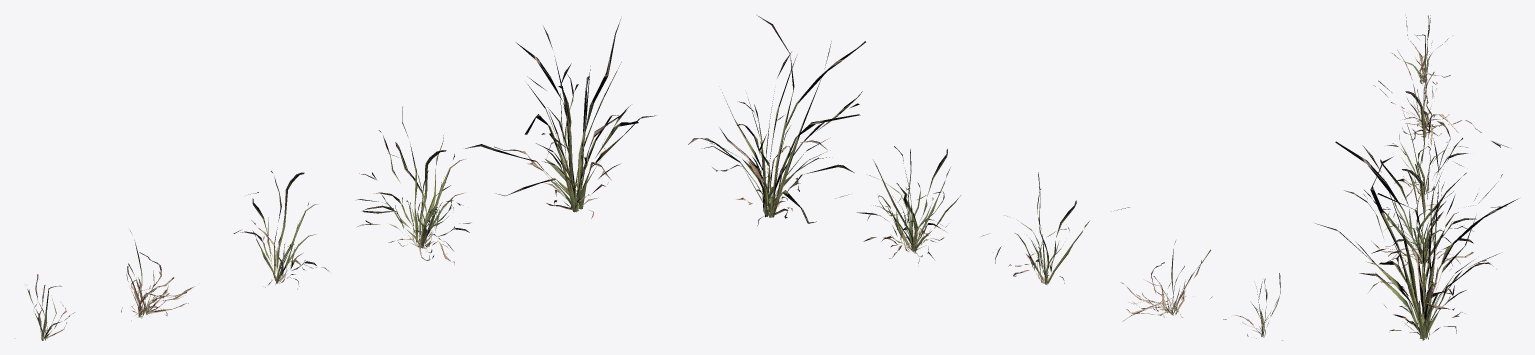
The model's file is grass_medium_02_audition.glb.
The picture shows the model from 3 angles, left to right: view 1: azimuth 30°, elevation 25°; view 2: azimuth 150°, elevation 25°; view 3: azimuth 270°, elevation 25°; orthographic projection. The views are drawn at different scales.
Visible parts, largest first — view 1: grass_medium_02_e, grass_medium_02_d, grass_medium_02_c, grass_medium_02_b, grass_medium_02_a; view 2: grass_medium_02_e, grass_medium_02_d, grass_medium_02_c, grass_medium_02_b; view 3: grass_medium_02_e, grass_medium_02_d, grass_medium_02_c, grass_medium_02_b, grass_medium_02_a.
Boxes of the visible parts, x1=… form: grass_medium_02_e: x1=465, y1=18, x2=656, y2=218; grass_medium_02_d: x1=355, y1=106, x2=471, y2=264; grass_medium_02_c: x1=233, y1=171, x2=329, y2=289; grass_medium_02_b: x1=121, y1=230, x2=194, y2=320; grass_medium_02_a: x1=27, y1=274, x2=74, y2=340; grass_medium_02_e: x1=688, y1=15, x2=865, y2=225; grass_medium_02_d: x1=836, y1=146, x2=960, y2=263; grass_medium_02_c: x1=981, y1=172, x2=1129, y2=284; grass_medium_02_b: x1=1120, y1=241, x2=1212, y2=321; grass_medium_02_e: x1=1315, y1=138, x2=1518, y2=340; grass_medium_02_d: x1=1364, y1=138, x2=1506, y2=269; grass_medium_02_c: x1=1378, y1=80, x2=1509, y2=213; grass_medium_02_b: x1=1373, y1=42, x2=1481, y2=145; grass_medium_02_a: x1=1392, y1=15, x2=1450, y2=84.
Bounding box in the file's own units: 1.29 × 0.4042 × 0.3827.
Materials: 1 (1 with a texture image).
